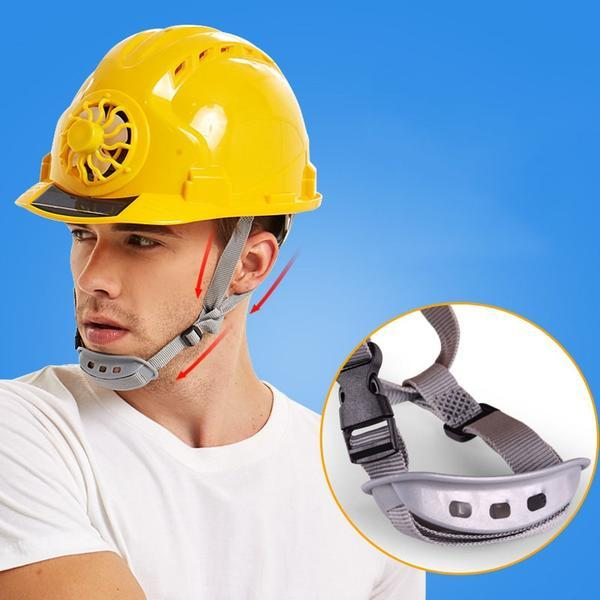helmet: (12, 25, 322, 228)
